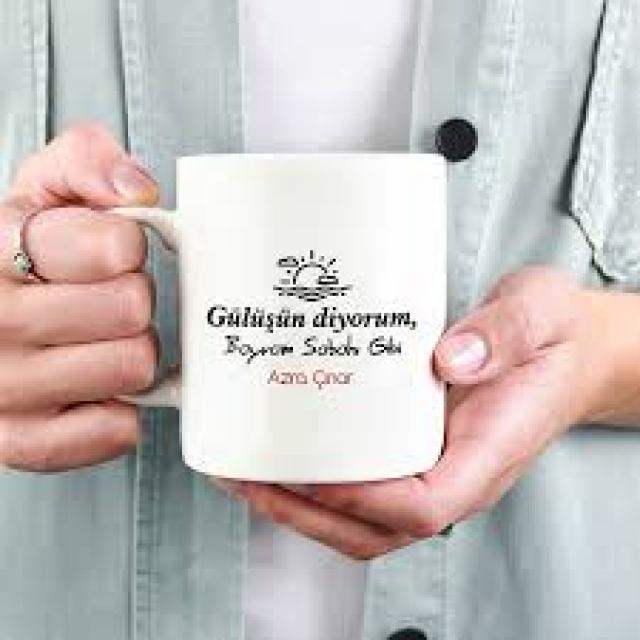taza: (79, 153, 447, 486)
